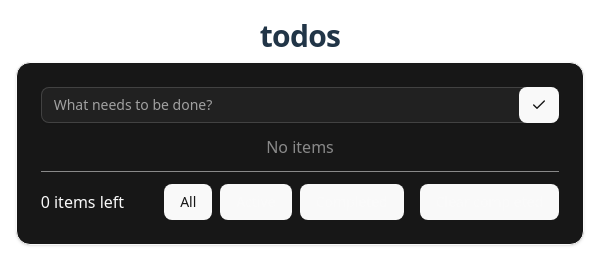
Test: Todo App › delete todo
Type "Test todo" into the field with test id "create-input" at [300, 104], box [41, 86, 559, 122]
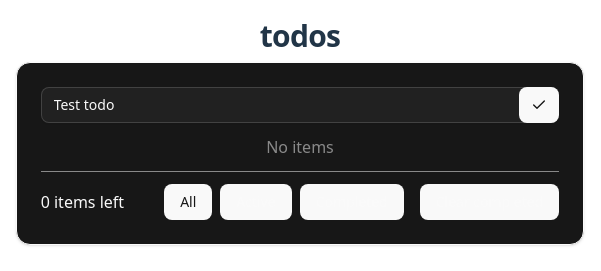
Click the button with test id "create-button" at [539, 104], box [519, 86, 559, 122]
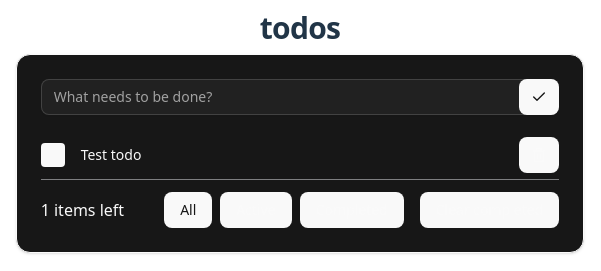
Check: the list item with test id "todo-item" is shown, box [41, 130, 559, 180]
Click the button with test id "delete-button" at [539, 154], box [519, 136, 559, 172]
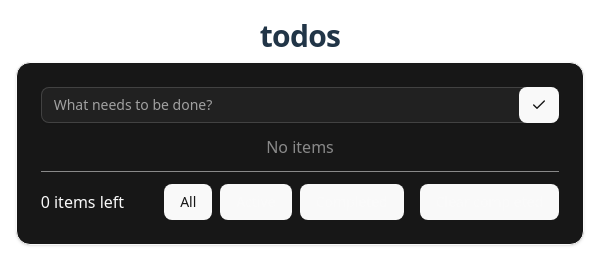
Check: the list item with test id "todo-item" is gone
